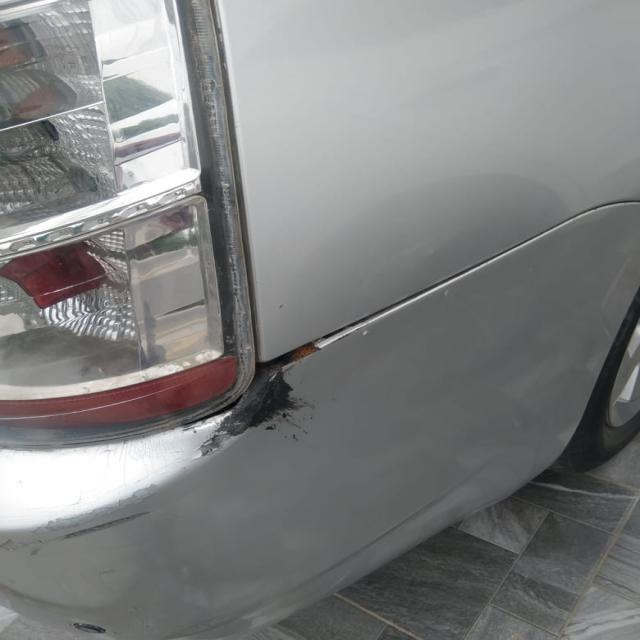scratch: (196, 361, 318, 461), (2, 497, 155, 555), (56, 600, 126, 640)
